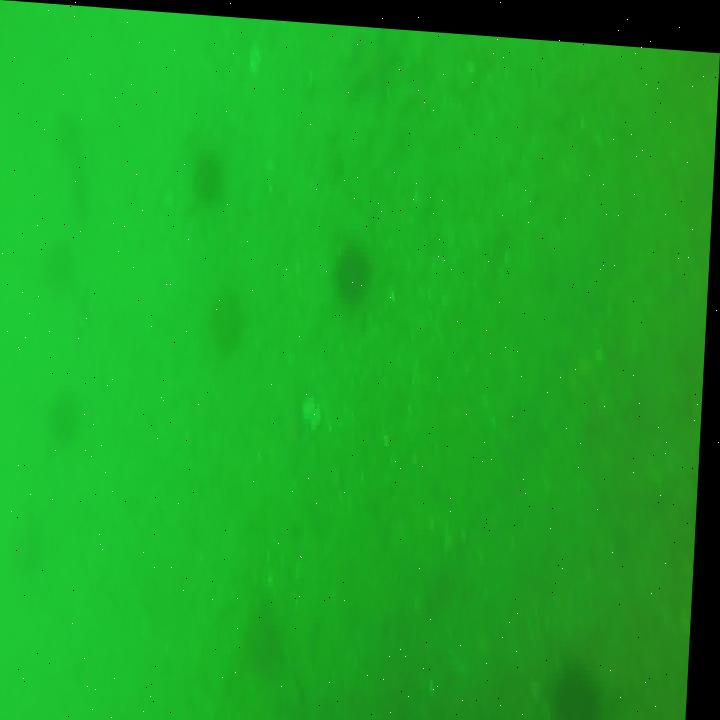echinus: (556, 649, 609, 720), (332, 231, 376, 304), (210, 293, 247, 350), (48, 395, 88, 443), (44, 239, 73, 298), (193, 151, 226, 201)
